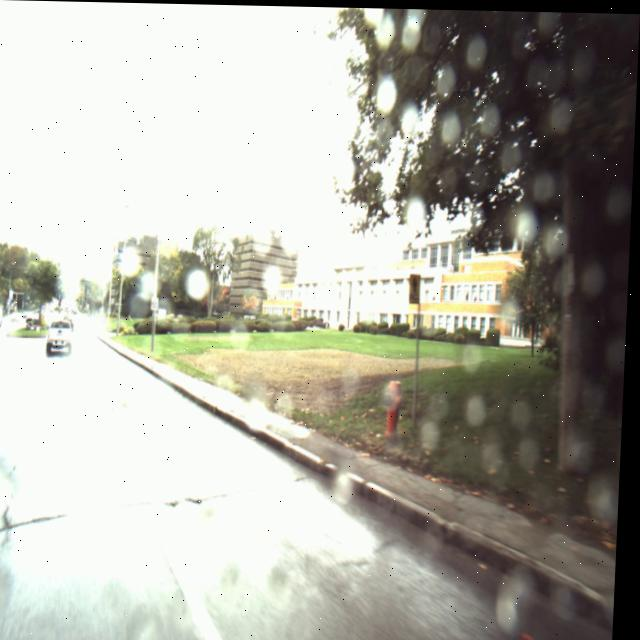car: (48, 319, 78, 355)
